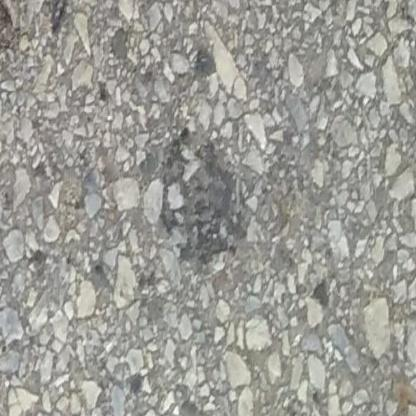Cracks: (0, 0, 33, 75)
